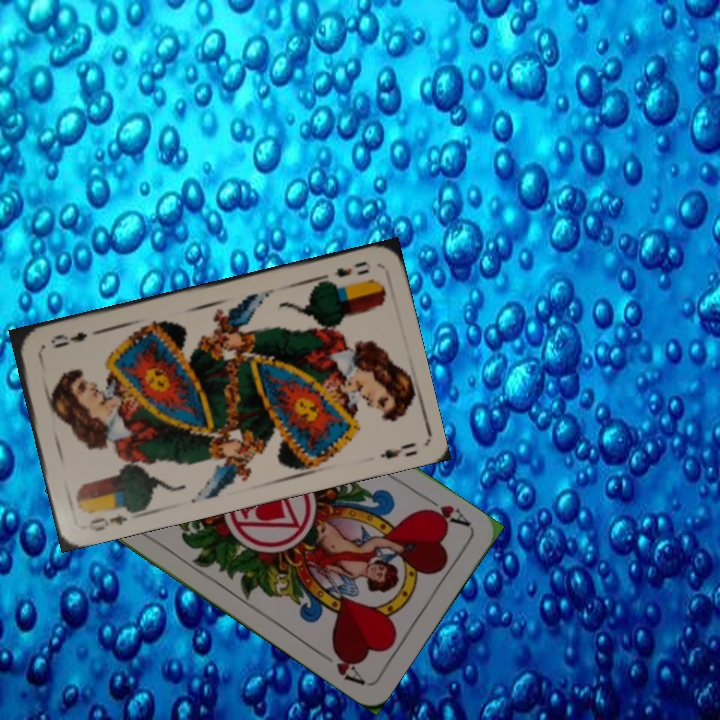EO: (319, 257, 372, 288), (84, 511, 130, 535)
HA: (419, 492, 473, 530)
